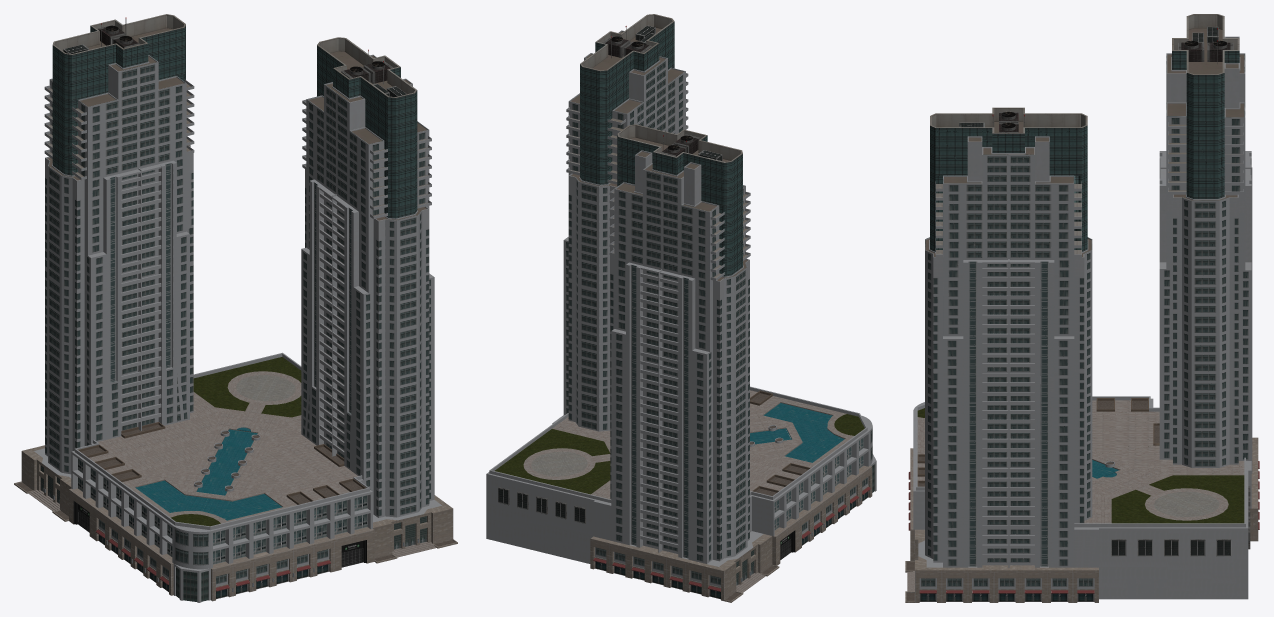
Rendered from Edificio_1.fbx.
The picture shows the model from 3 angles, left to right: view 1: azimuth 30°, elevation 25°; view 2: azimuth 150°, elevation 25°; view 3: azimuth 270°, elevation 25°; orthographic projection. The views are drawn at different scales.
Parts seen in each view (by area): view 1: bina; view 2: bina; view 3: bina.
Boxes of the visible parts, bbox=[...] form: bina: bbox=[14, 14, 457, 602]; bina: bbox=[486, 14, 876, 602]; bina: bbox=[905, 14, 1259, 602].
Size of the model in its own units: 2444 by 3926 by 2670.
